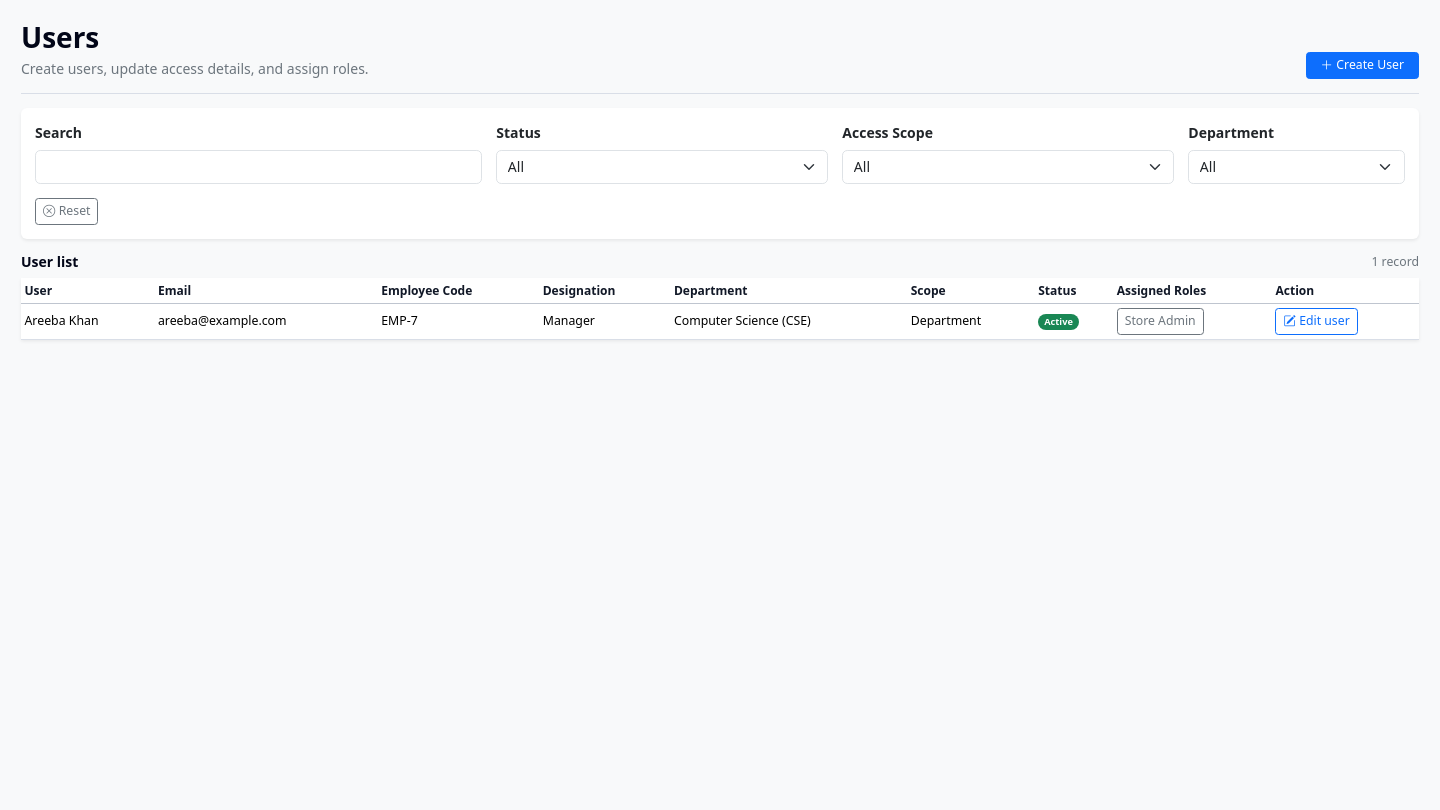
Test: UsersPage › opens role membership modal from user row
Click the button "Store Admin".
click(1160, 322)  # box [1117,308,1204,335]
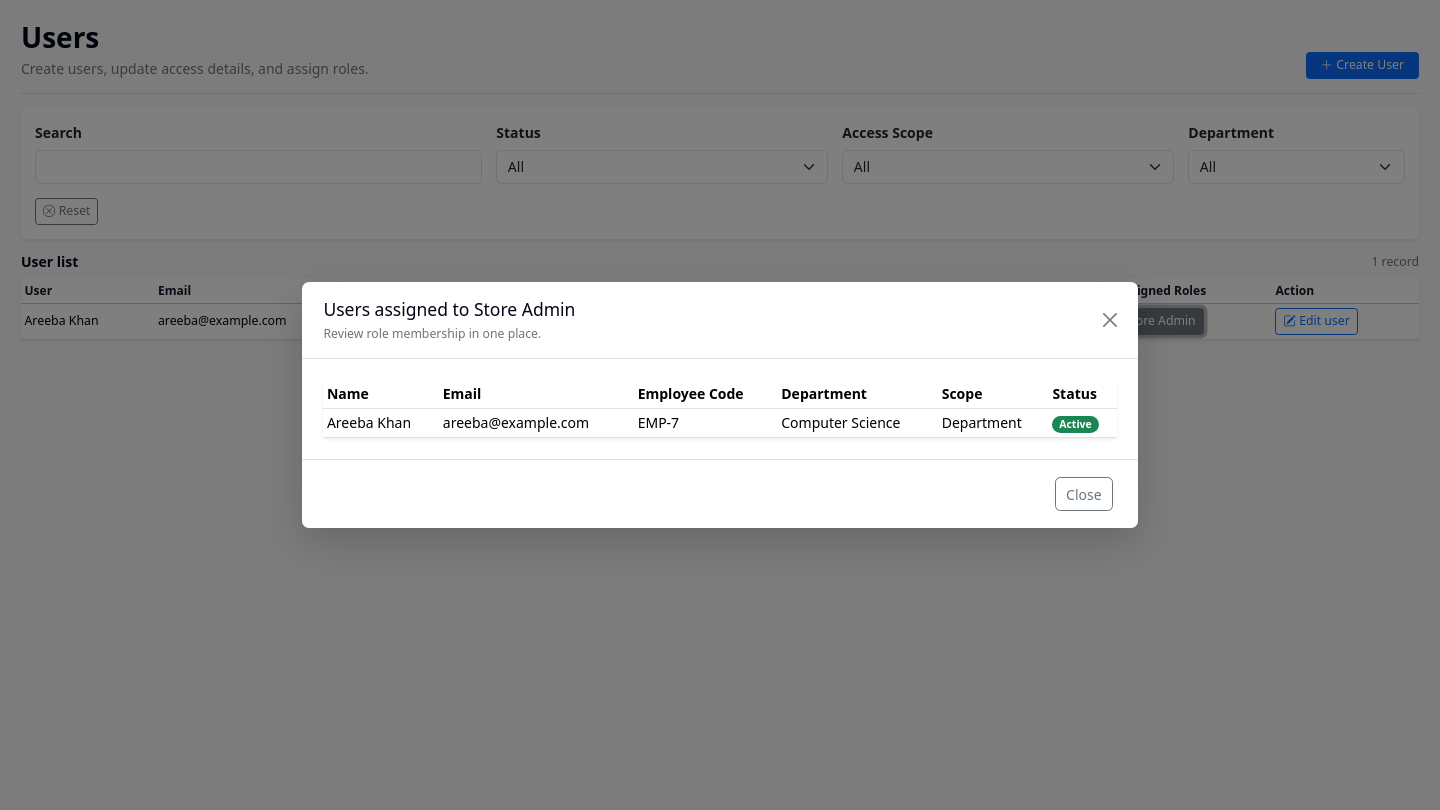
Result: the heading "Users assigned to Store Admin" is shown at [323,296,575,322]
Result: the text "Areeba Khan" is shown at [323,408,439,437]
